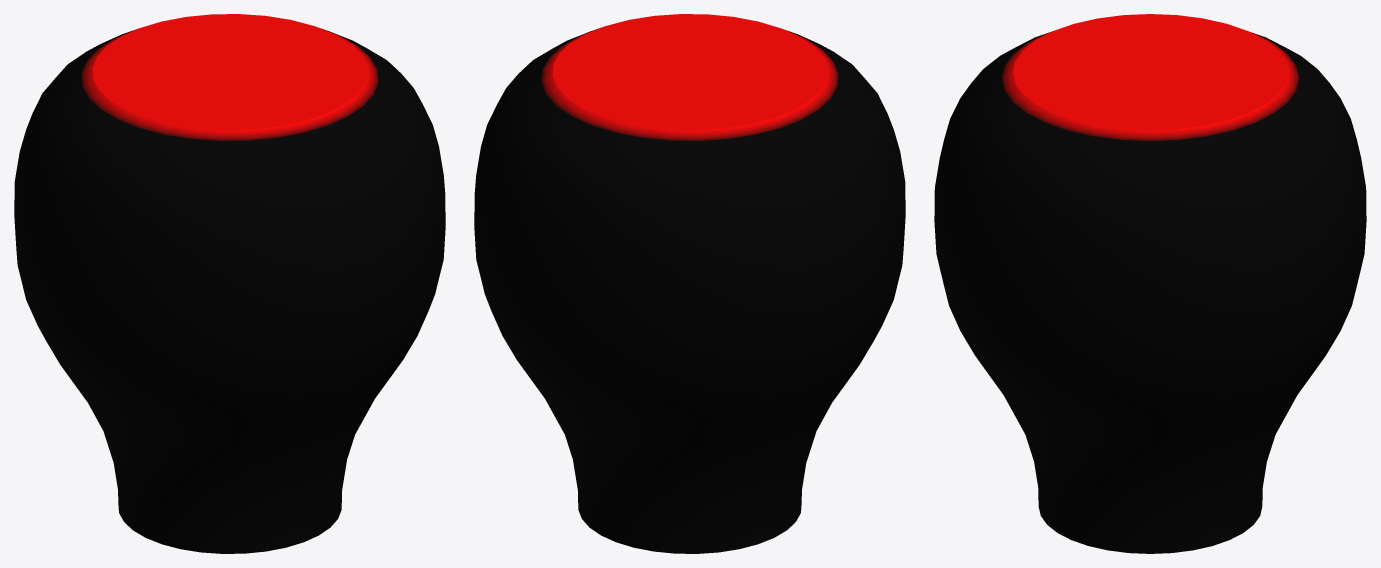
File: Pot01Water.fbx
3 views of the same model, side by side, from view 1: azimuth 30°, elevation 25°; view 2: azimuth 150°, elevation 25°; view 3: azimuth 270°, elevation 25° (orthographic).
Parts seen in each view (by area): view 1: Plane.034; view 2: Plane.034; view 3: Plane.034.
Part boxes in pixels (x1,y1,x2,y2): Plane.034: (14,14,445,553); Plane.034: (474,14,905,553); Plane.034: (934,14,1366,553).
Bounding box in the file's own units: 1.73 × 1.92 × 1.73.
